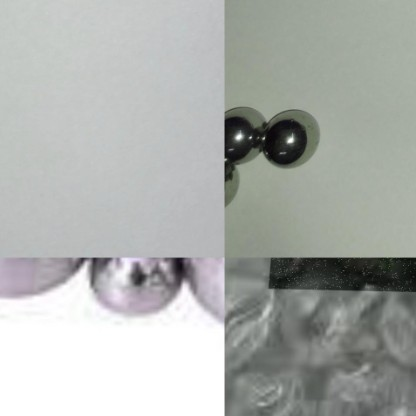ironball: (83, 257, 180, 315), (0, 254, 81, 301), (263, 108, 325, 168), (184, 257, 225, 321), (223, 103, 264, 162)
